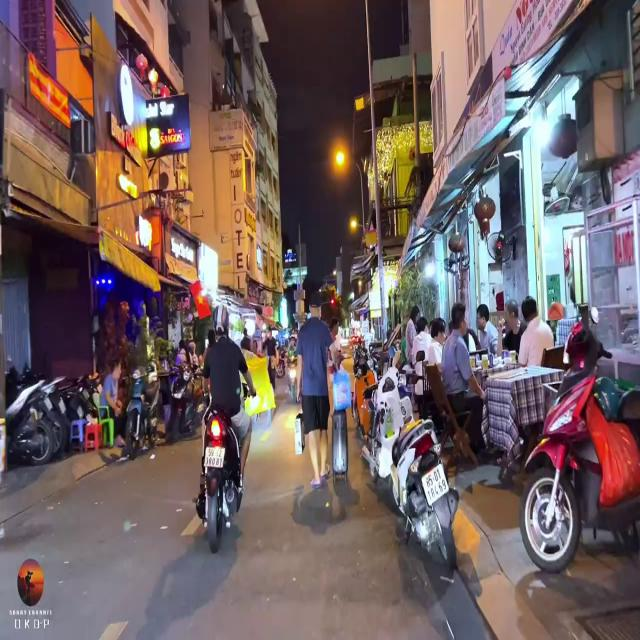bien_trang: (418, 463, 453, 502), (204, 442, 224, 470)
